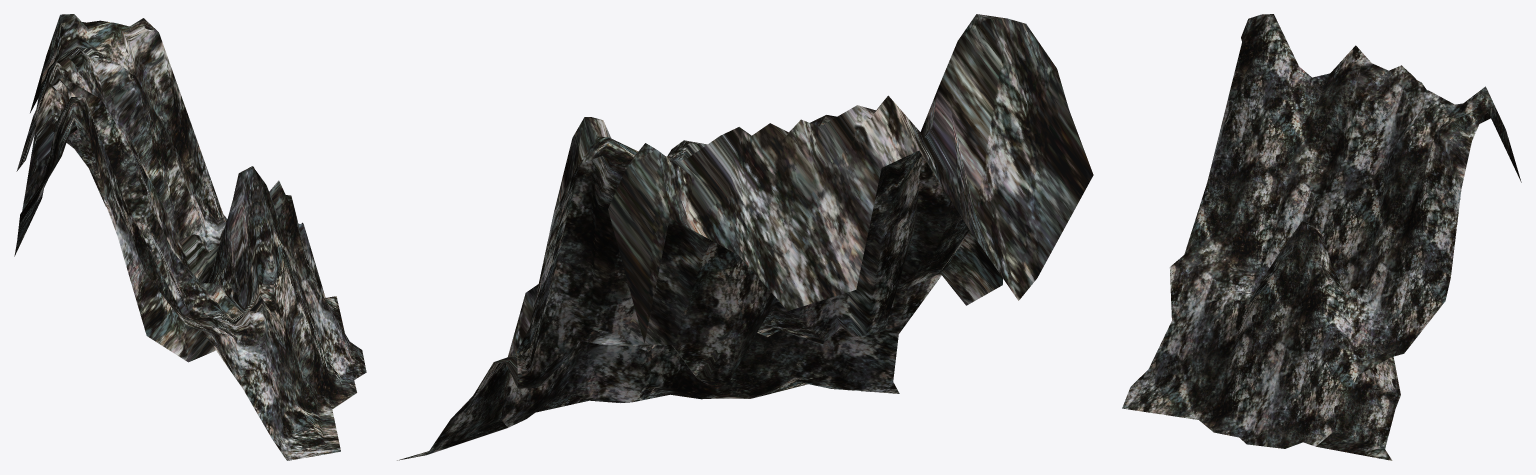
File: OVERHILL_A_01_MOUN1_OBJECT150.fbx
The picture shows the model from 3 angles, left to right: view 1: azimuth 30°, elevation 25°; view 2: azimuth 150°, elevation 25°; view 3: azimuth 270°, elevation 25°; orthographic projection. The views are drawn at different scales.
Parts seen in each view (by area): view 1: OVERHILL_A_01_MOUN1_OBJECT150; view 2: OVERHILL_A_01_MOUN1_OBJECT150; view 3: OVERHILL_A_01_MOUN1_OBJECT150.
Part boxes in pixels (box(x1,y1,x2,y2)): OVERHILL_A_01_MOUN1_OBJECT150: box(14, 14, 366, 460); OVERHILL_A_01_MOUN1_OBJECT150: box(397, 14, 1093, 460); OVERHILL_A_01_MOUN1_OBJECT150: box(1122, 14, 1521, 460).
Size of the model in its own units: 402874 by 335443 by 390101.
1 material, 1 textured.
